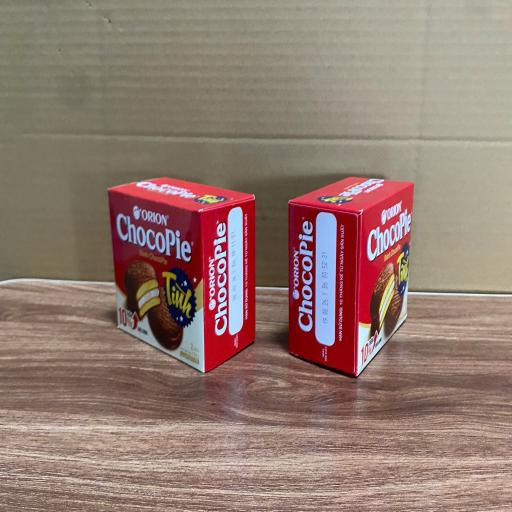chocopie: (108, 175, 256, 372), (289, 171, 411, 377)
